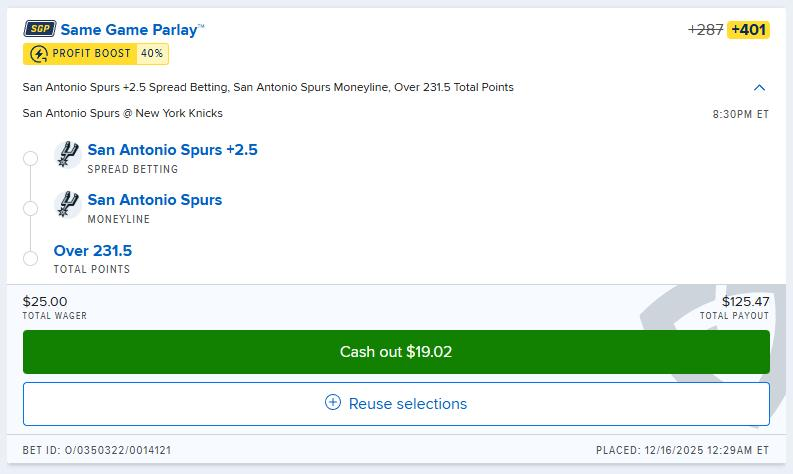game: (20, 105, 227, 123)
odds: (729, 20, 768, 38)
payout: (721, 293, 772, 309)
wager: (21, 292, 68, 309)
